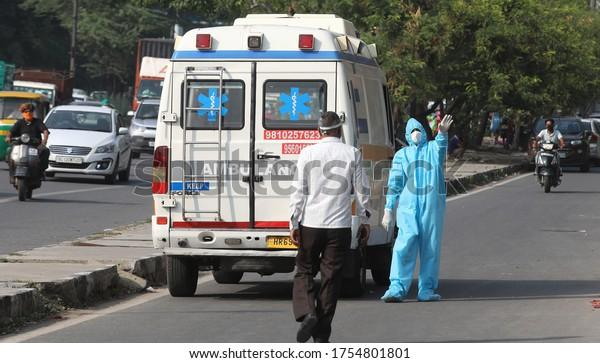ER: (151, 12, 401, 295)
